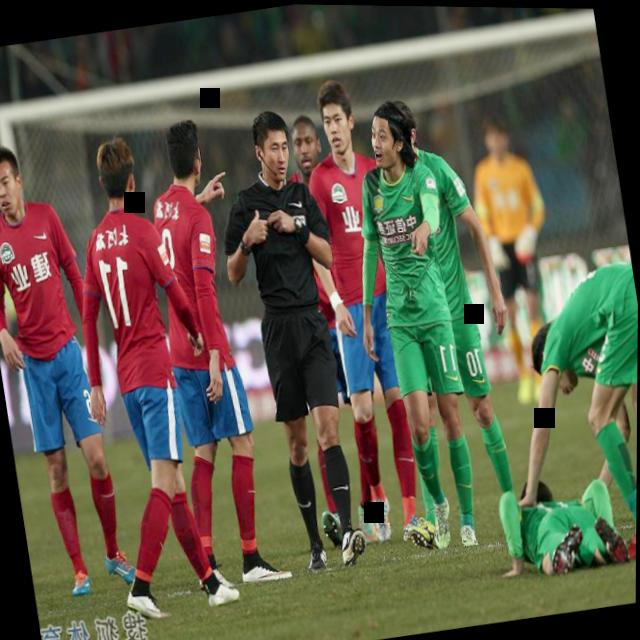Fall-Detected: (485, 452, 637, 590)
